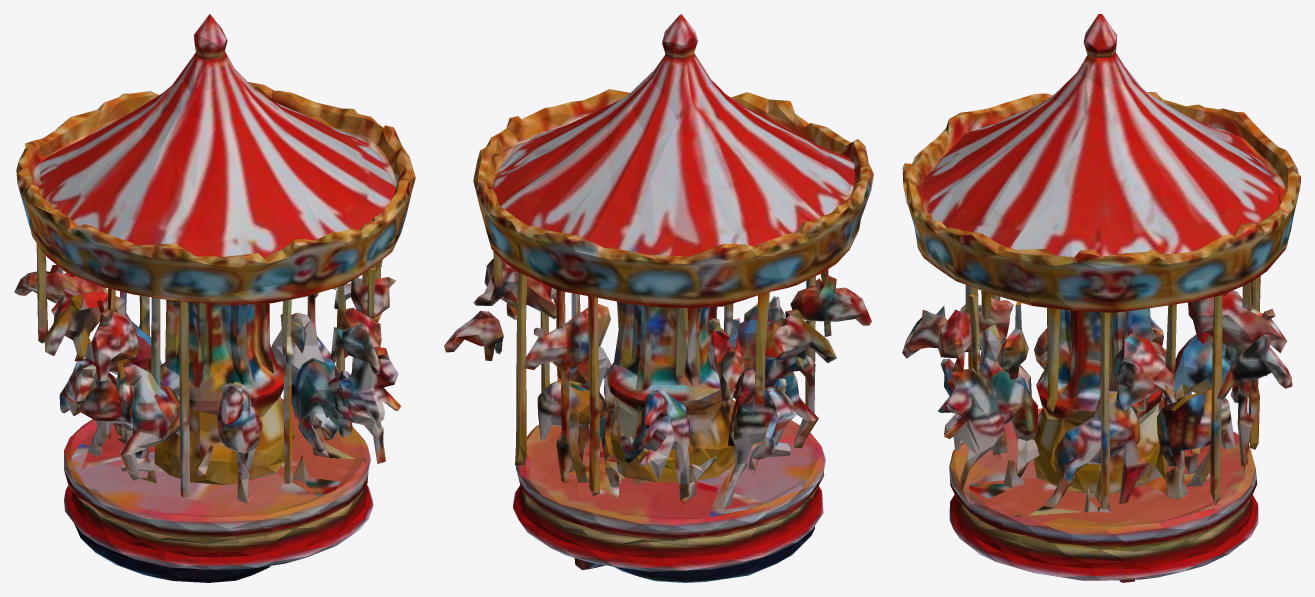
The model's file is carousel.glb.
3 renders of one model, left to right at view 1: azimuth 30°, elevation 25°; view 2: azimuth 150°, elevation 25°; view 3: azimuth 270°, elevation 25°, orthographic.
Parts seen in each view (by area): view 1: textured_mesh.obj; view 2: textured_mesh.obj; view 3: textured_mesh.obj.
Boxes of the visible parts, x1,y1,x2,y2 form: textured_mesh.obj: (14,14,415,582); textured_mesh.obj: (444,14,873,582); textured_mesh.obj: (902,14,1300,582).
Size of the model in its own units: 2.8 by 4 by 2.77.
1 material, 1 textured.
